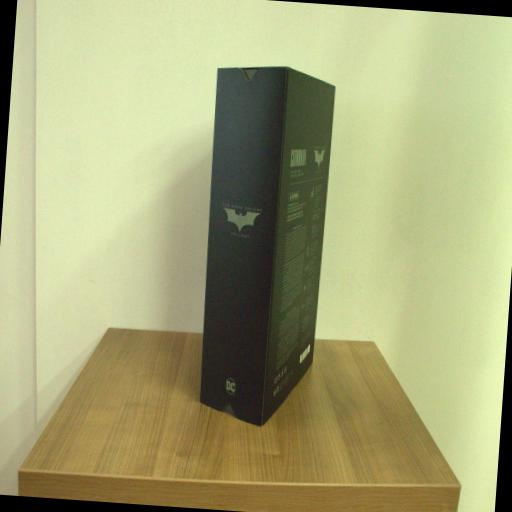catwoman: (192, 65, 337, 431)
